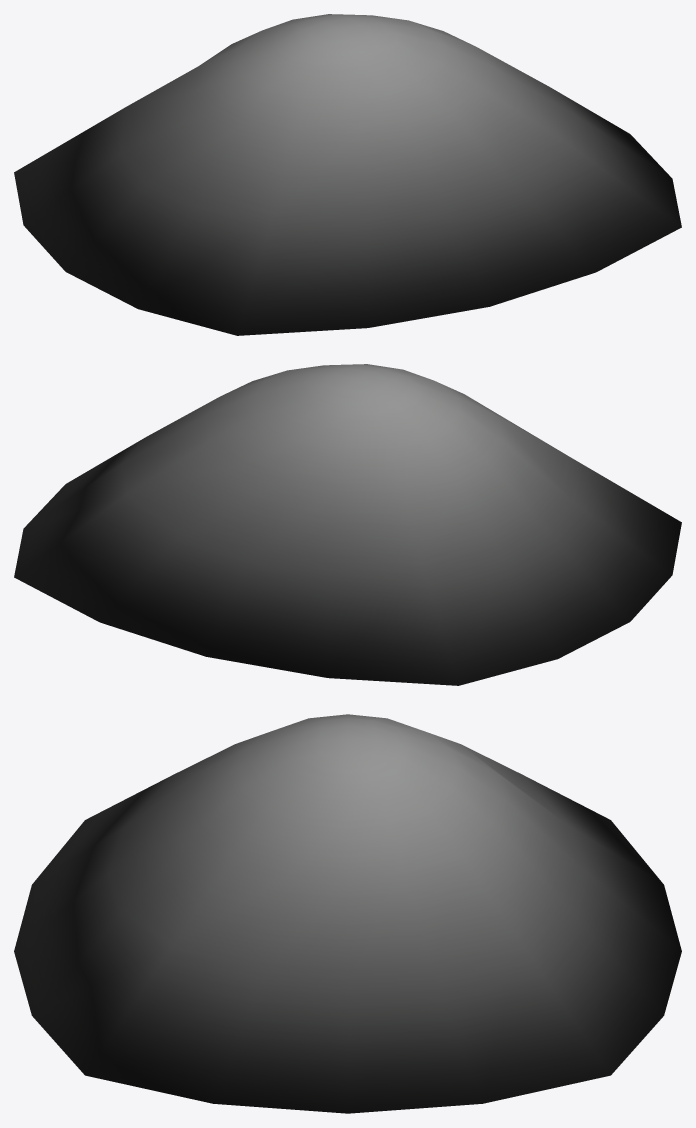
File: SM_Env_Foliage_Mound_Big.fbx
3 views of the same model, one above another, from view 1: azimuth 30°, elevation 25°; view 2: azimuth 150°, elevation 25°; view 3: azimuth 270°, elevation 25° (orthographic). The views are drawn at different scales.
Visible parts, largest first — view 1: Gundukan Big; view 2: Gundukan Big; view 3: Gundukan Big.
Part boxes in pixels (x1,y1,x2,y2): Gundukan Big: (14, 14, 681, 335); Gundukan Big: (14, 364, 681, 685); Gundukan Big: (14, 714, 681, 1113).
Size of the model in its own units: 694 by 207 by 604.
Materials: 1 (1 with a texture image).
